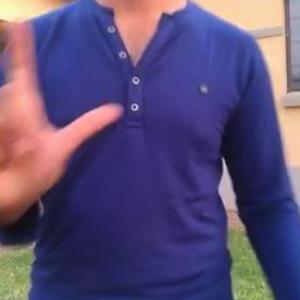land_hand: (0, 12, 125, 216)
